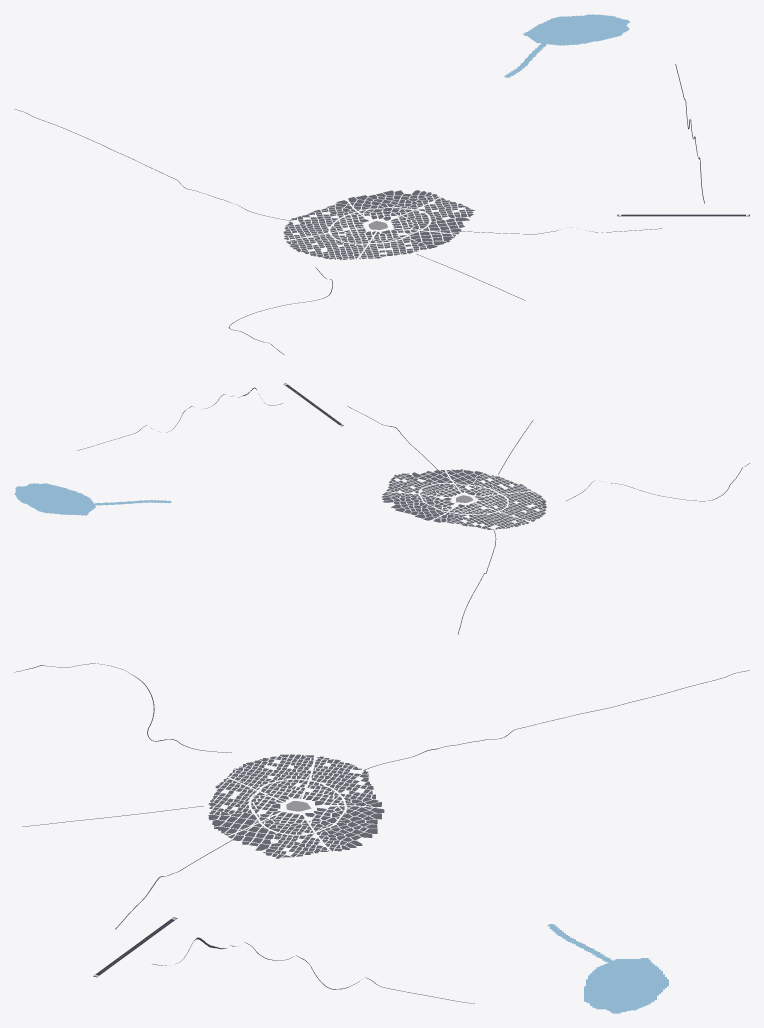
Rendered from fichina_props.glb.
3 views of the same model, one above another, from view 1: azimuth 30°, elevation 25°; view 2: azimuth 150°, elevation 25°; view 3: azimuth 270°, elevation 25° (orthographic). The views are drawn at different scales.
Parts seen in each view (by area): view 1: no part large enough to name; view 2: no part large enough to name; view 3: Water__27_9, Water__26_9, Water__28_9, Roads__16_16, Roads__14_16, Roads__17_18, Roads__16_18, Roads__13_17.
Boxes of the visible parts, x1,y1,x2,y2 form: Water__27_9: [596, 979, 636, 996]; Water__26_9: [596, 962, 636, 979]; Water__28_9: [596, 996, 636, 1013]; Roads__16_16: [312, 809, 358, 828]; Roads__14_16: [311, 776, 354, 794]; Roads__17_18: [231, 827, 275, 845]; Roads__16_18: [229, 810, 274, 829]; Roads__13_17: [272, 759, 313, 777].
Size of the model in its own units: 10522 by 546 by 9103.
